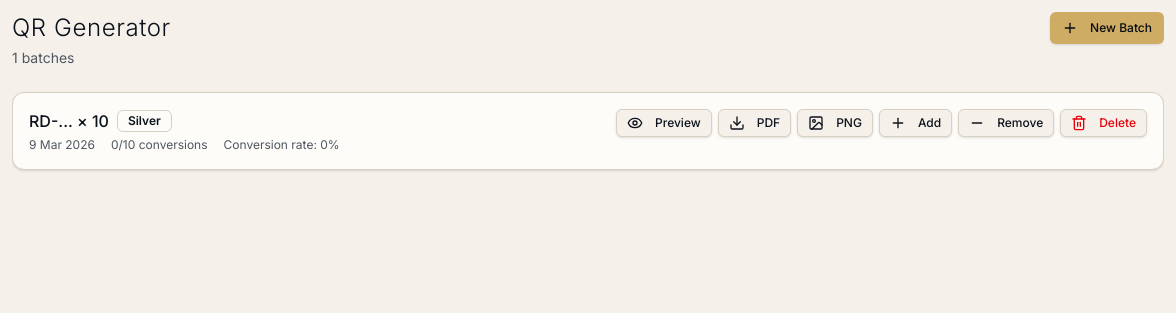
Test: AdminQrGeneratorPage › clicking Add again closes the inline panel
The width and height of the screenshot is (1176, 313).
Click the button "Add": click(916, 123) [879, 109, 952, 137]
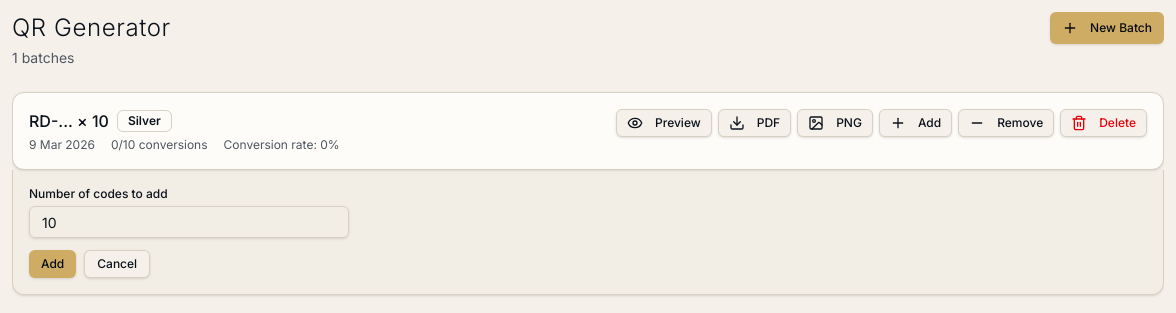
Result: the text "Number of codes to add" is shown at [29, 186, 168, 201]
Click the toggle button again (first "Add") to close
Click the button "Add" in the row of "silver": click(916, 123) [879, 109, 952, 137]
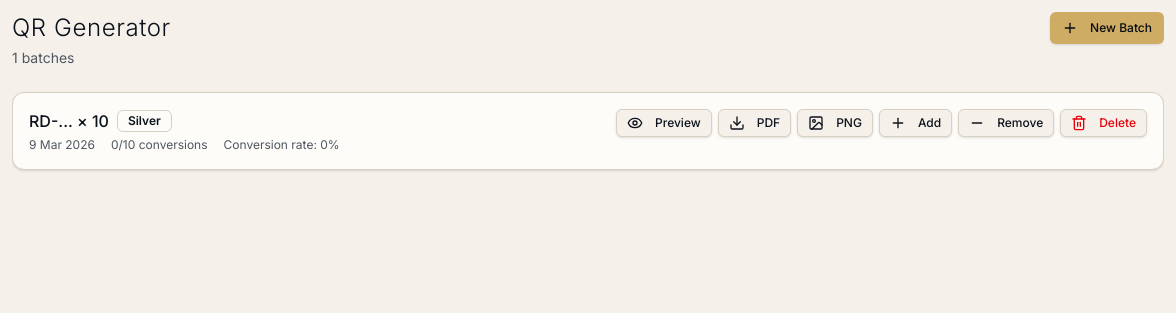
Result: the text "Number of codes to add" is gone
